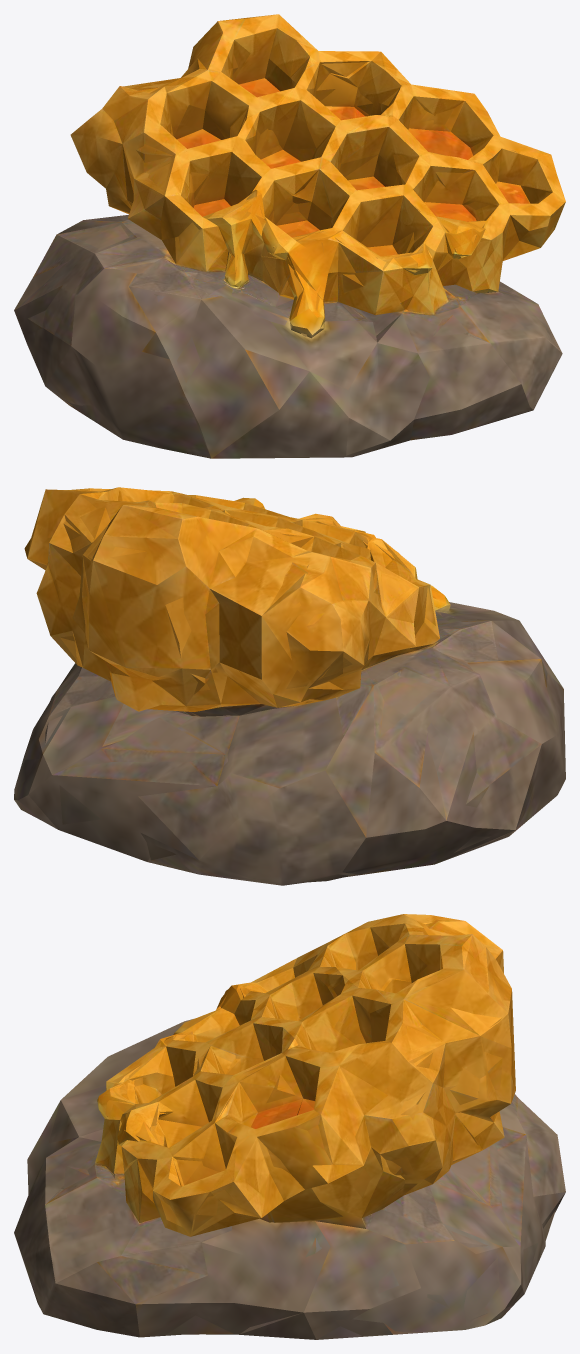
Rendered from honeycomb.glb.
3 renders of one model, top to bottom at view 1: azimuth 30°, elevation 25°; view 2: azimuth 150°, elevation 25°; view 3: azimuth 270°, elevation 25°, orthographic. The views are drawn at different scales.
Bounding box in the file's own units: 1.9 × 1.1 × 1.76.
Materials: 1 (1 with a texture image).
